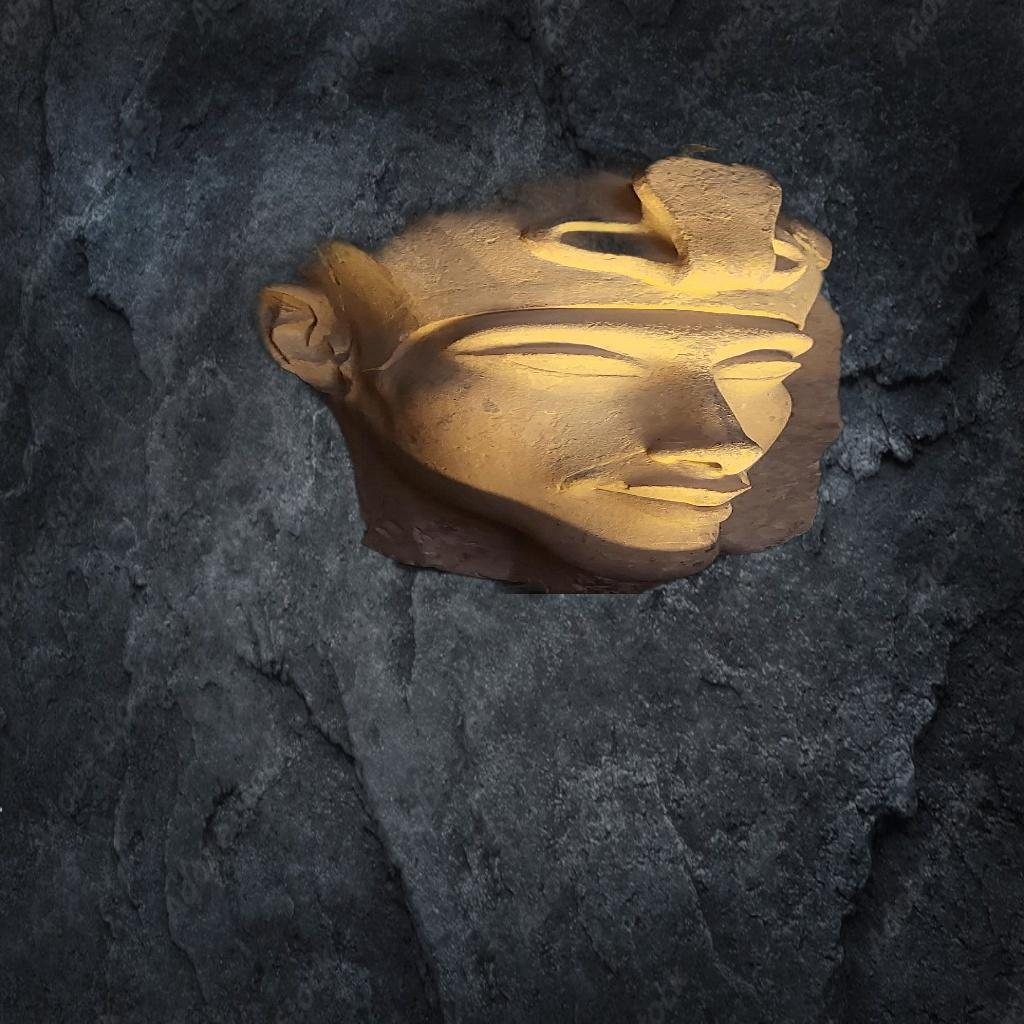Statue Head of Akhenaten: (160, 137, 848, 594)
